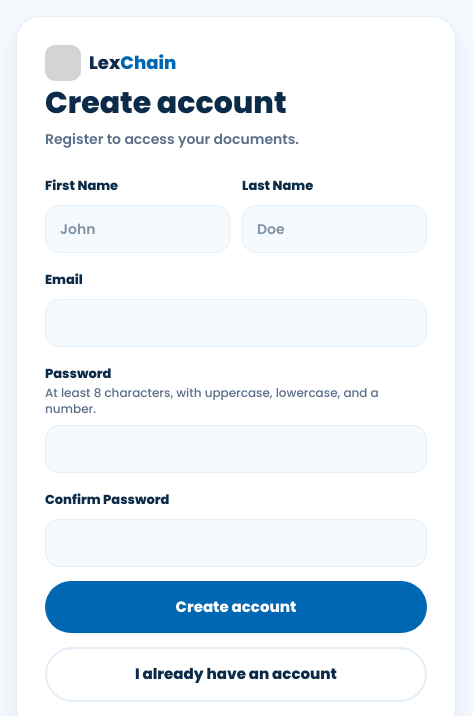
Test case: RegisterPage › submits only supported fields and shows the backend confirmation message
Type "Élodie" into the field labelled "First Name".
click(138, 229); type("Élodie")  # box [45,205,230,253]
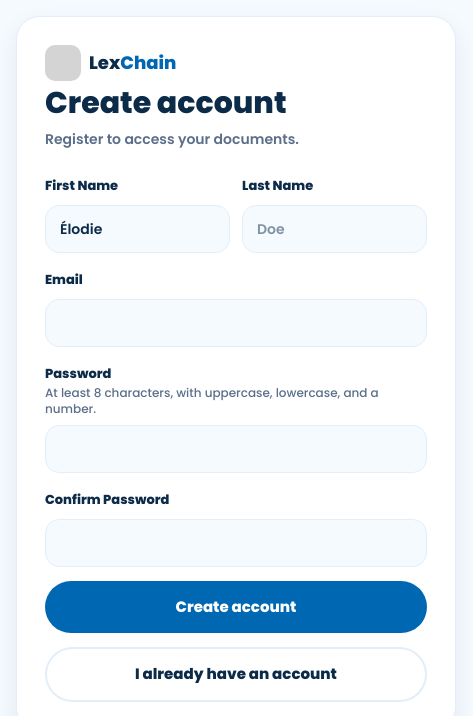
Type "O'Connor" into the field labelled "Last Name".
click(334, 229); type("O'Connor")  # box [242,205,427,253]
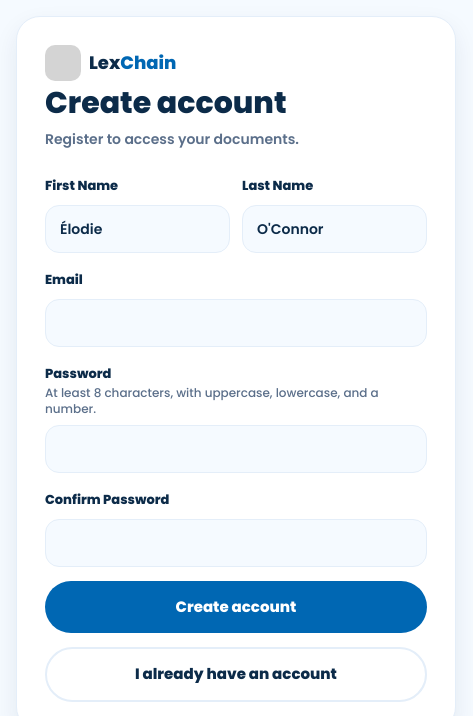
Type "elodie@example.com" into the field labelled "Email".
click(236, 323); type("elodie@example.com")  # box [45,299,427,347]
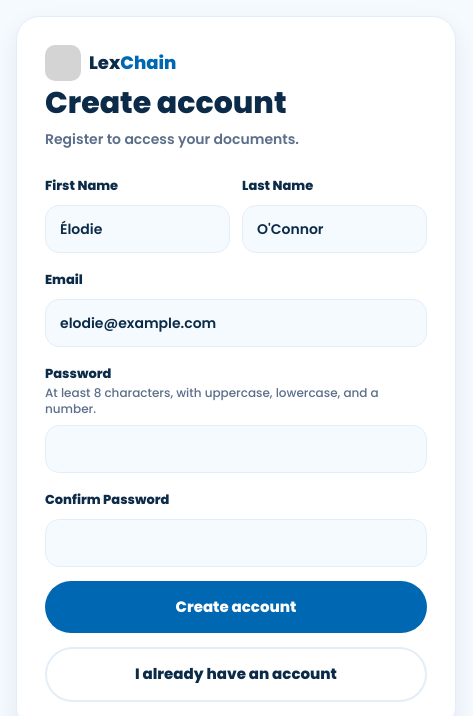
Type "Password1" into the password field labelled "Password".
click(236, 449); type("Password1")  # box [45,425,427,473]
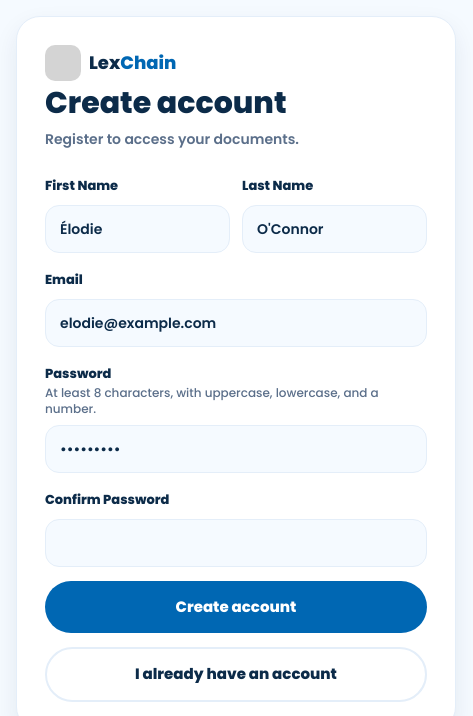
Type "Password1" into the password field labelled "Confirm Password".
click(236, 543); type("Password1")  # box [45,519,427,567]
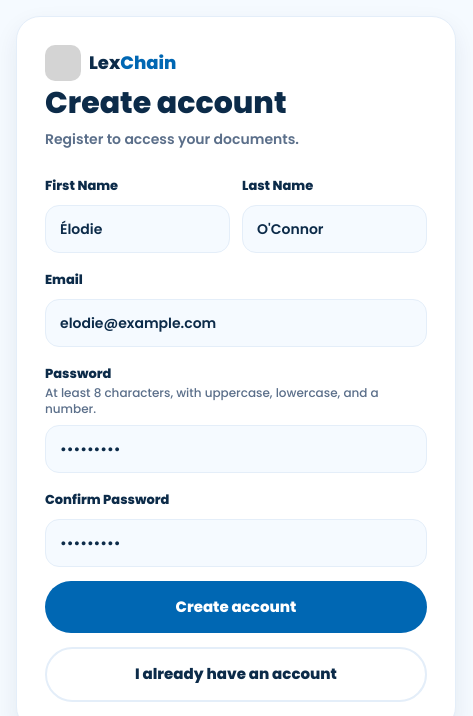
Click the button "Create account".
click(236, 607)  # box [45,581,427,633]
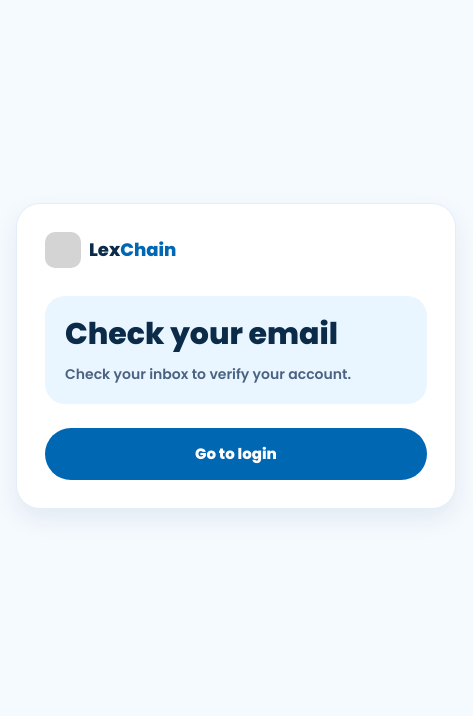
Expected: the heading "Check your email" is shown, [65,313,338,355]
Expected: the text "Check your inbox to verify your account." is shown, [65,364,351,384]
